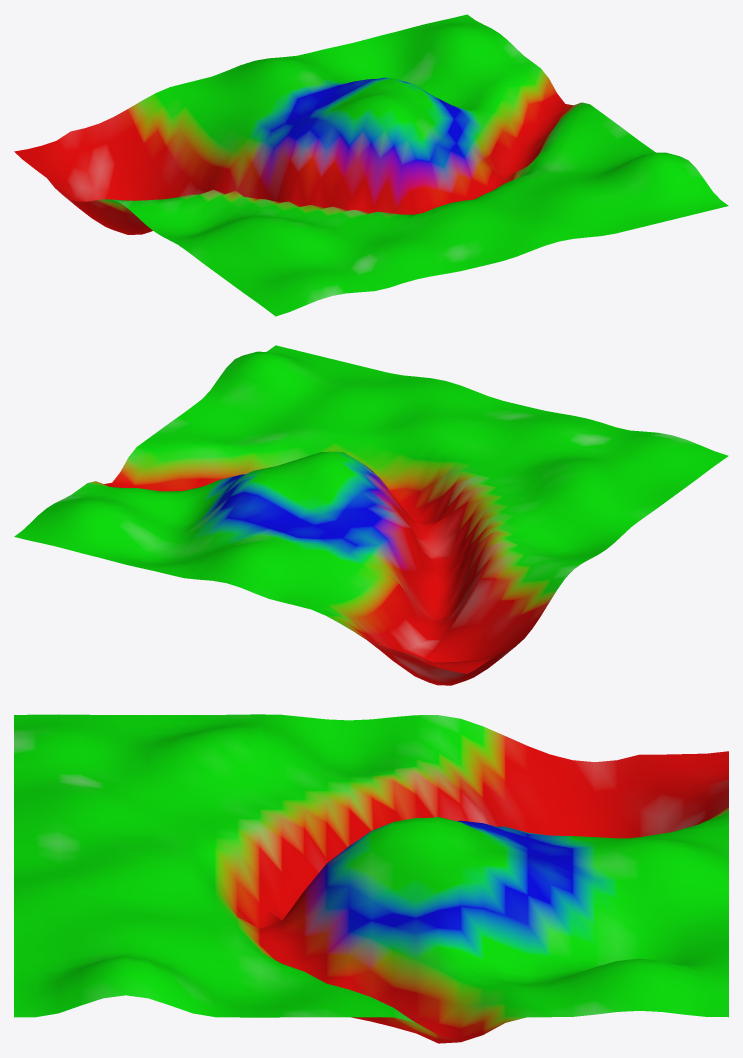
The model's file is MintTagForestTerrrainv3.fbx.
3 views of the same model, one above another, from view 1: azimuth 30°, elevation 25°; view 2: azimuth 150°, elevation 25°; view 3: azimuth 270°, elevation 25° (orthographic). The views are drawn at different scales.
Visible parts, largest first — view 1: Plane; view 2: Plane; view 3: Plane.
Part boxes in pixels (<box>): Plane: <box>14,14,728,316</box>; Plane: <box>14,345,728,685</box>; Plane: <box>14,714,728,1043</box>.
Bounding box in the file's own units: 43032 × 12111 × 43032.
